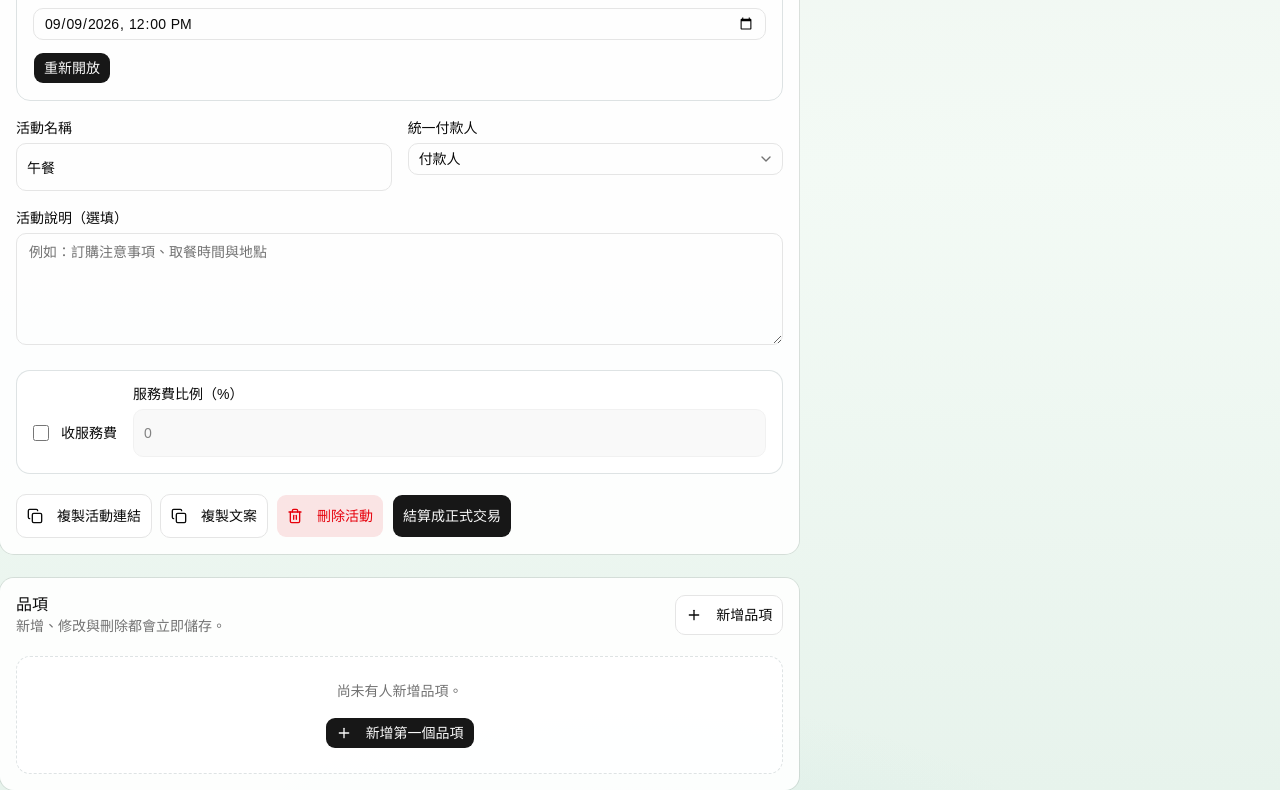
Scenario: 活動頁面結單保護 › 付款人在結單後仍能新增品項
(page scrolled)
Step 1. Click the button "新增品項" → (729, 615), box x1=675 y1=595 x2=783 y2=635
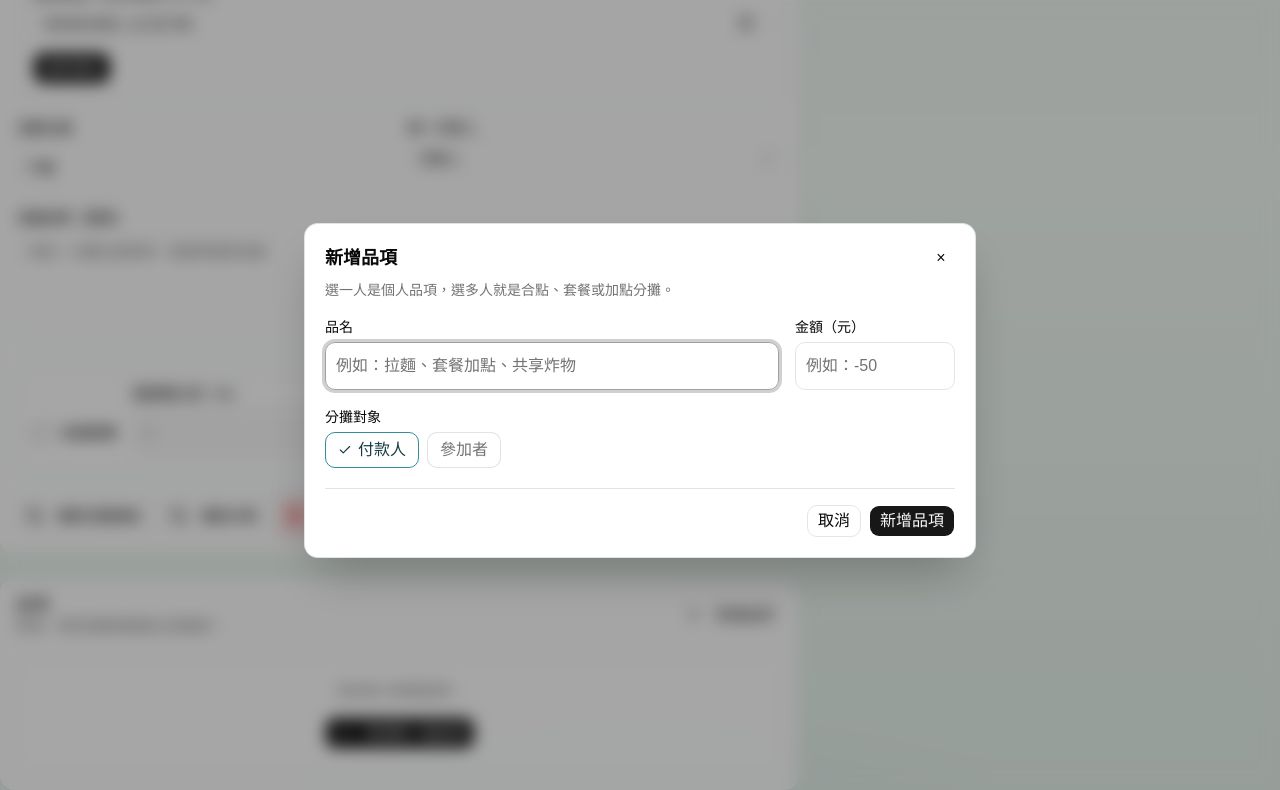
Expected: the field labelled "品名" is enabled, x1=325 y1=342 x2=779 y2=390
